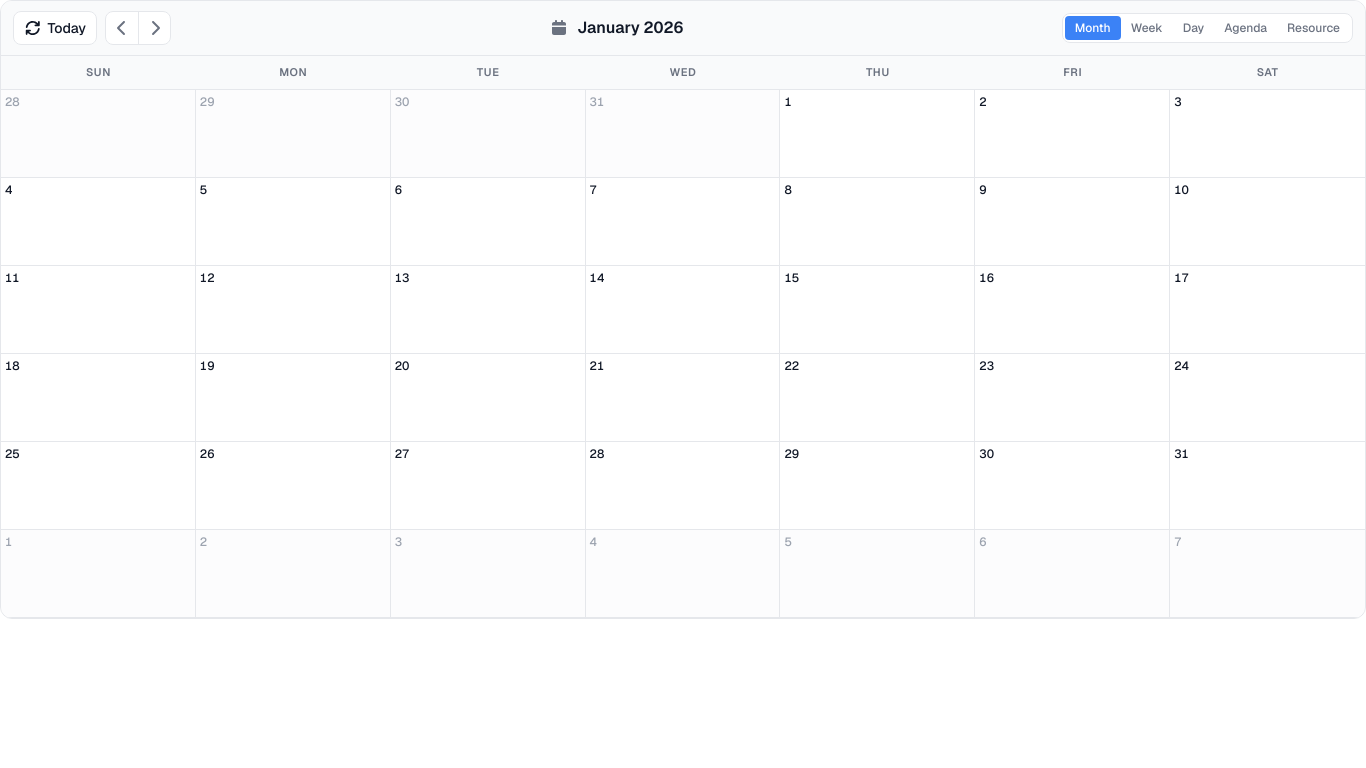
Test case: <Calendar /> navigation › does not skip February when paging from 31 January
Click the button named "Next": (154, 28) [138,12,170,44]
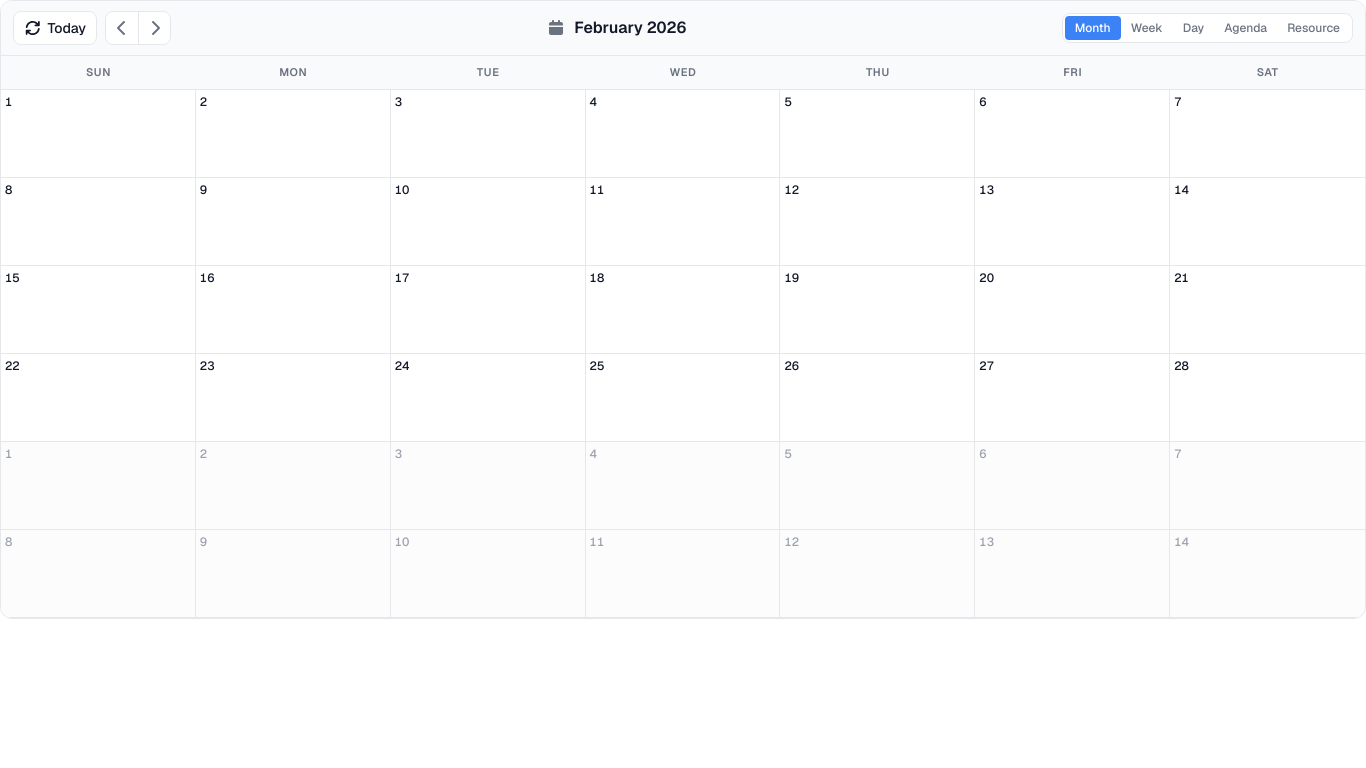
Result: the heading reads "February 2026" at [574,17,687,38]
